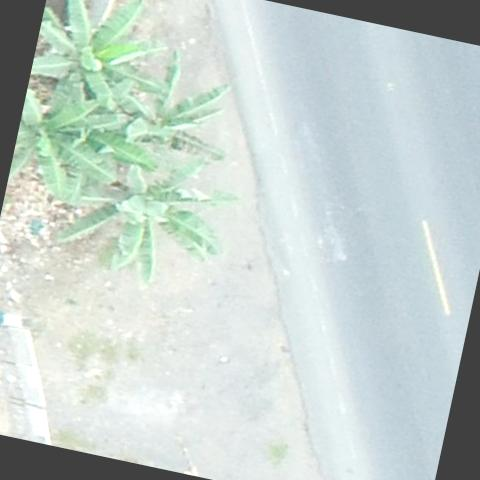Banana-plant: (51, 126, 236, 293), (100, 43, 246, 177), (22, 0, 165, 131), (5, 79, 120, 212)
